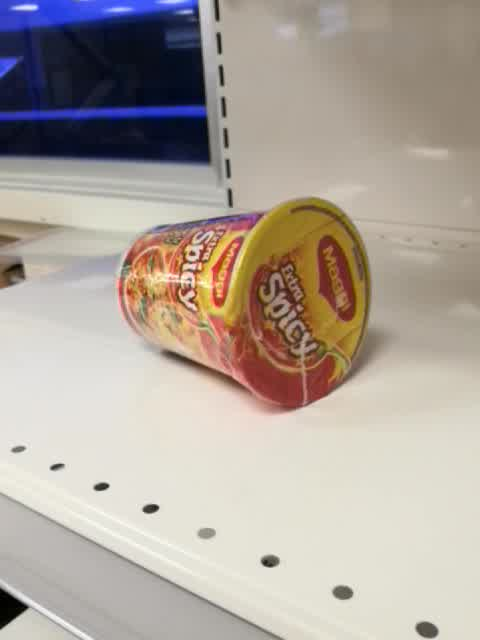maggi: (114, 195, 373, 412)
